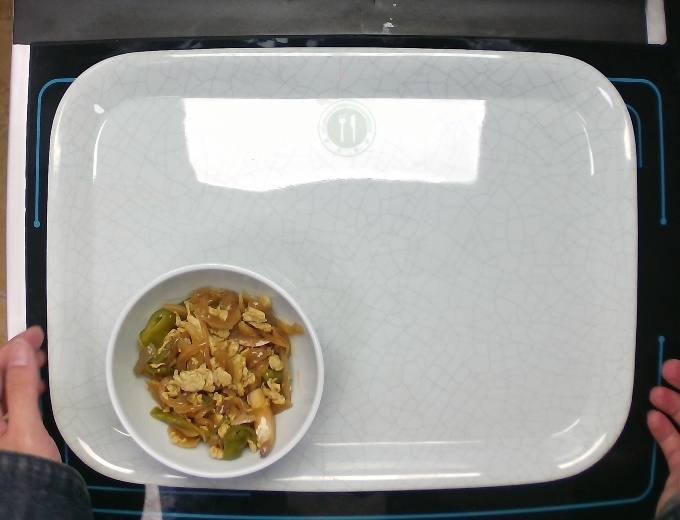JYsf-Fan_Wan: (93, 259, 327, 480)
